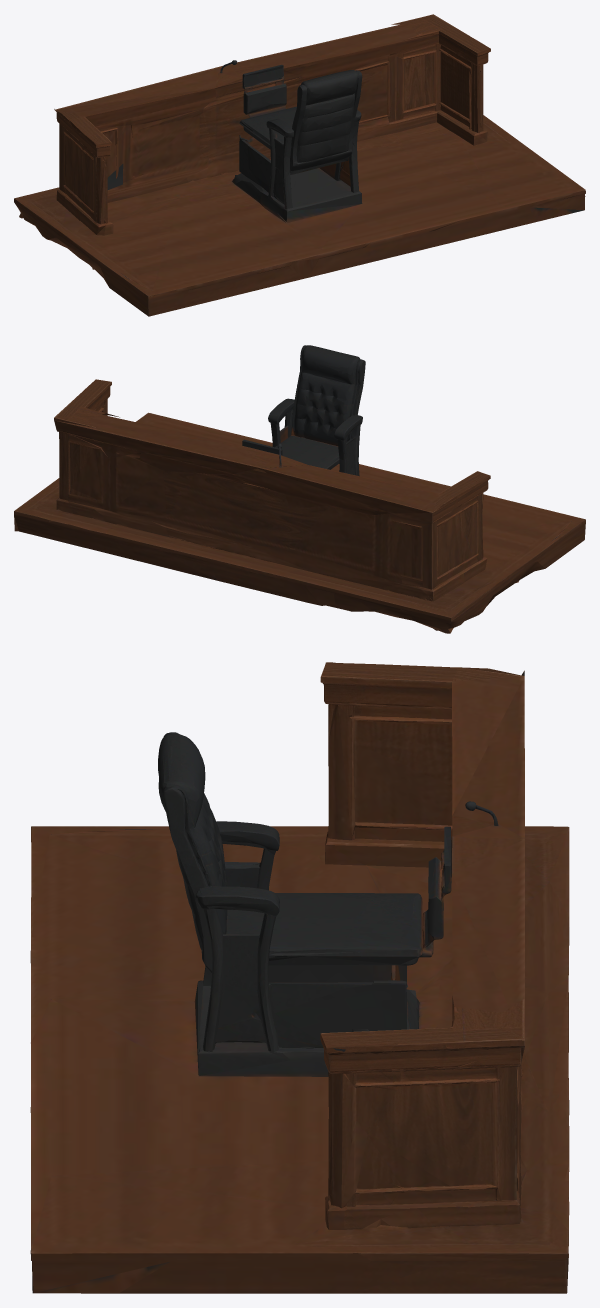
File: sudya-stoli.glb
3 views of the same model, one above another, from view 1: azimuth 30°, elevation 25°; view 2: azimuth 150°, elevation 25°; view 3: azimuth 270°, elevation 25° (orthographic). The views are drawn at different scales.
Visible parts, largest first — view 1: output_unwrapped; view 2: output_unwrapped; view 3: output_unwrapped.
Part boxes in pixels (x1,y1,x2,y2): output_unwrapped: [14, 14, 585, 316]; output_unwrapped: [14, 345, 585, 633]; output_unwrapped: [30, 662, 569, 1293].
Size of the model in its own units: 2.5 by 0.8811 by 1.33.
Materials: 1 (1 with a texture image).
